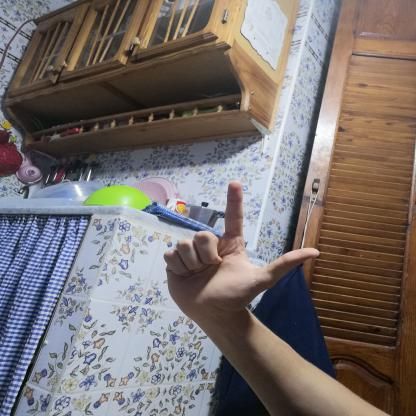LAAM: (142, 172, 334, 330)
